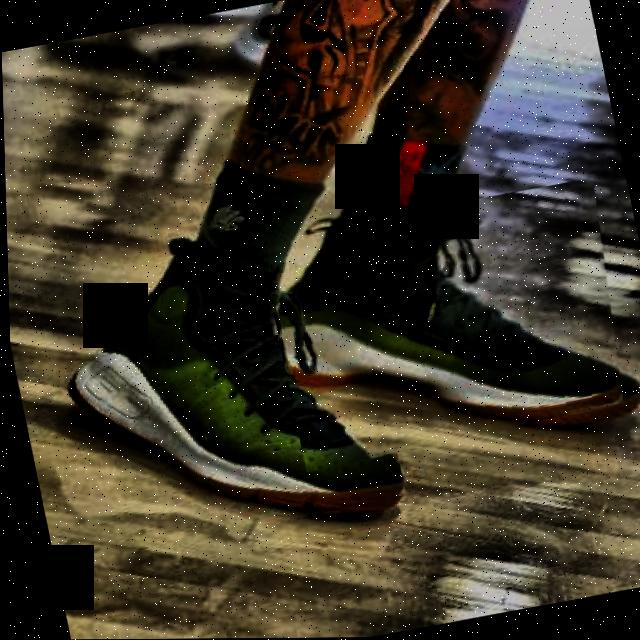shoe: (47, 222, 405, 557), (256, 177, 640, 474)
